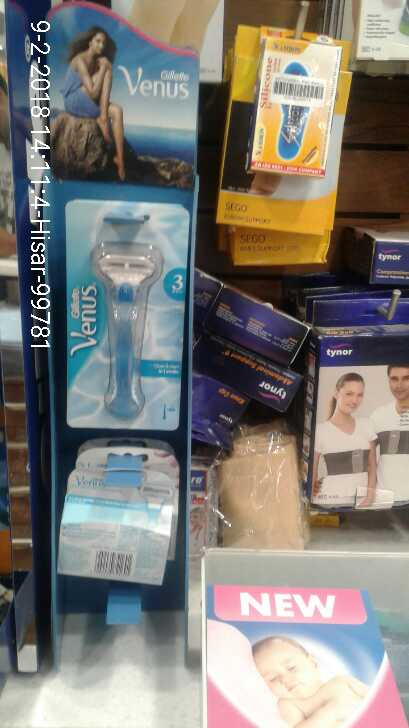venus: (58, 195, 184, 431), (53, 459, 173, 591)
